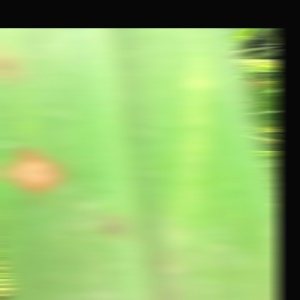Brown_Spot: (0, 139, 75, 205)
